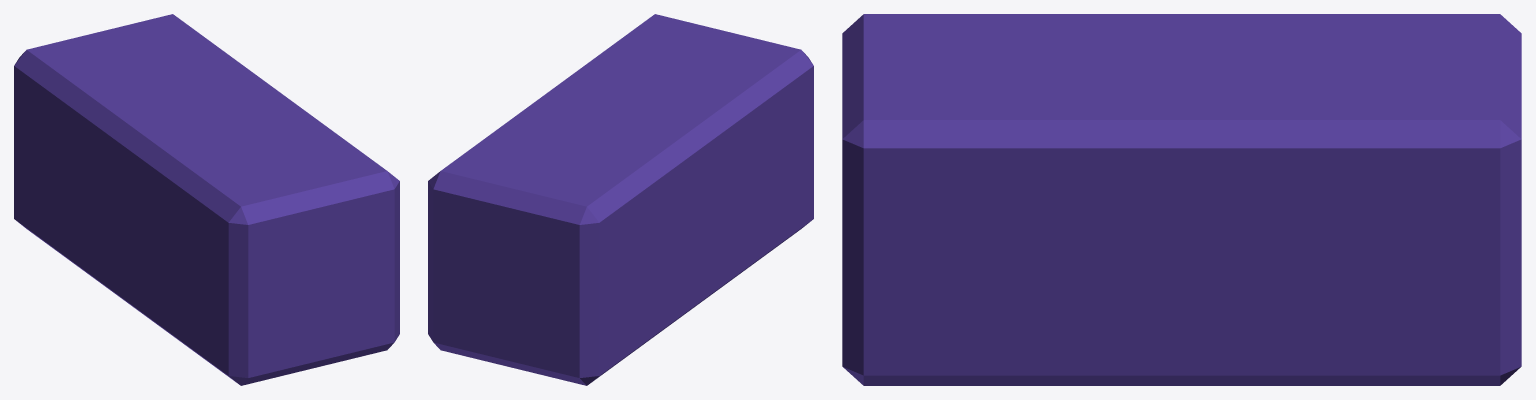
File: large brick.fbx
3 renders of one model, left to right at view 1: azimuth 30°, elevation 25°; view 2: azimuth 150°, elevation 25°; view 3: azimuth 270°, elevation 25°, orthographic. The views are drawn at different scales.
Parts seen in each view (by area): view 1: brocken wall small.003; view 2: brocken wall small.003; view 3: brocken wall small.003.
Part boxes in pixels (box(x1,y1,x2,y2)): brocken wall small.003: box(14, 14, 399, 385); brocken wall small.003: box(428, 14, 813, 385); brocken wall small.003: box(842, 14, 1521, 385).
Bounding box in the file's own units: 122 × 122 × 282.
